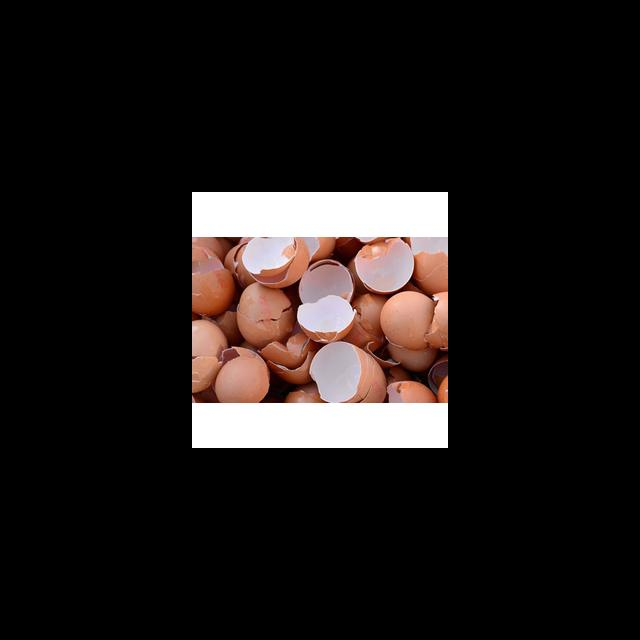food_waste: (199, 330, 280, 425), (292, 333, 379, 405), (292, 291, 370, 359), (238, 239, 320, 303), (354, 232, 428, 298), (411, 232, 448, 306)
